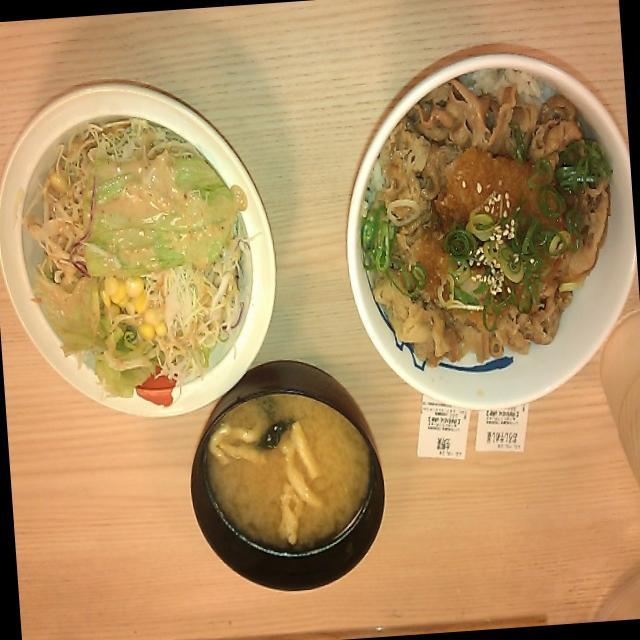Green Salad: (24, 109, 258, 398)
